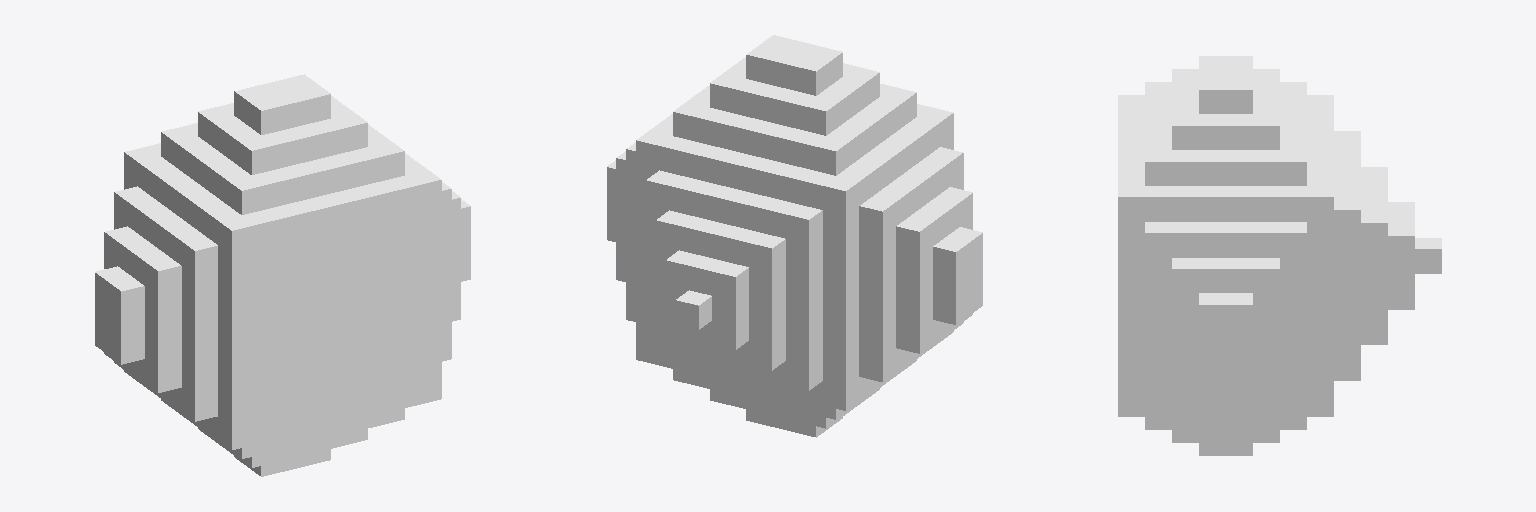
The model's file is WalkerEnemy.obj.
3 renders of one model, left to right at view 1: azimuth 30°, elevation 25°; view 2: azimuth 150°, elevation 25°; view 3: azimuth 270°, elevation 25°, orthographic.
Parts seen in each view (by area): view 1: object 1; view 2: object 1; view 3: object 1.
Part boxes in pixels (bbox=[...]): object 1: bbox=[95, 74, 470, 476]; object 1: bbox=[607, 35, 982, 437]; object 1: bbox=[1118, 56, 1441, 455].
Size of the model in its own units: 1.5 by 1.5 by 1.2.